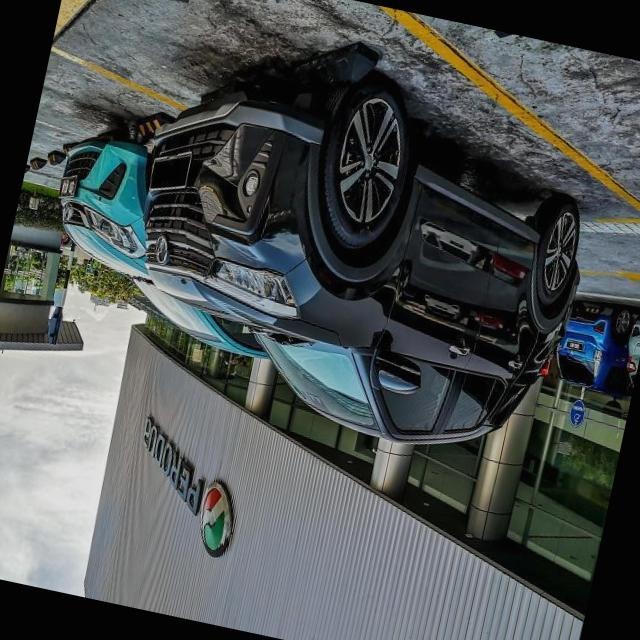PeroduaAtiva: (98, 35, 613, 476)
